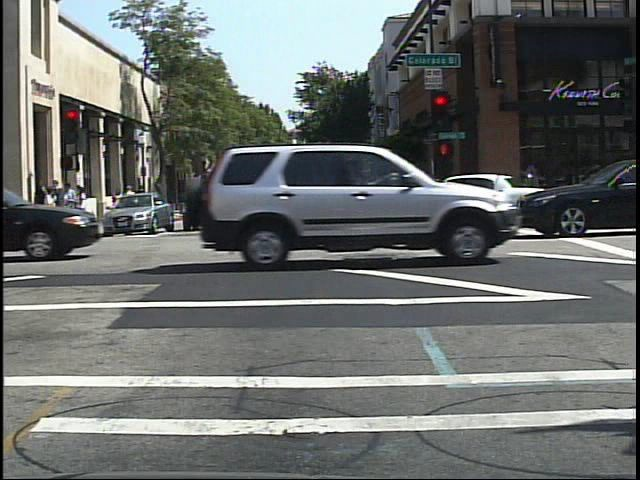person: (119, 181, 139, 224)
